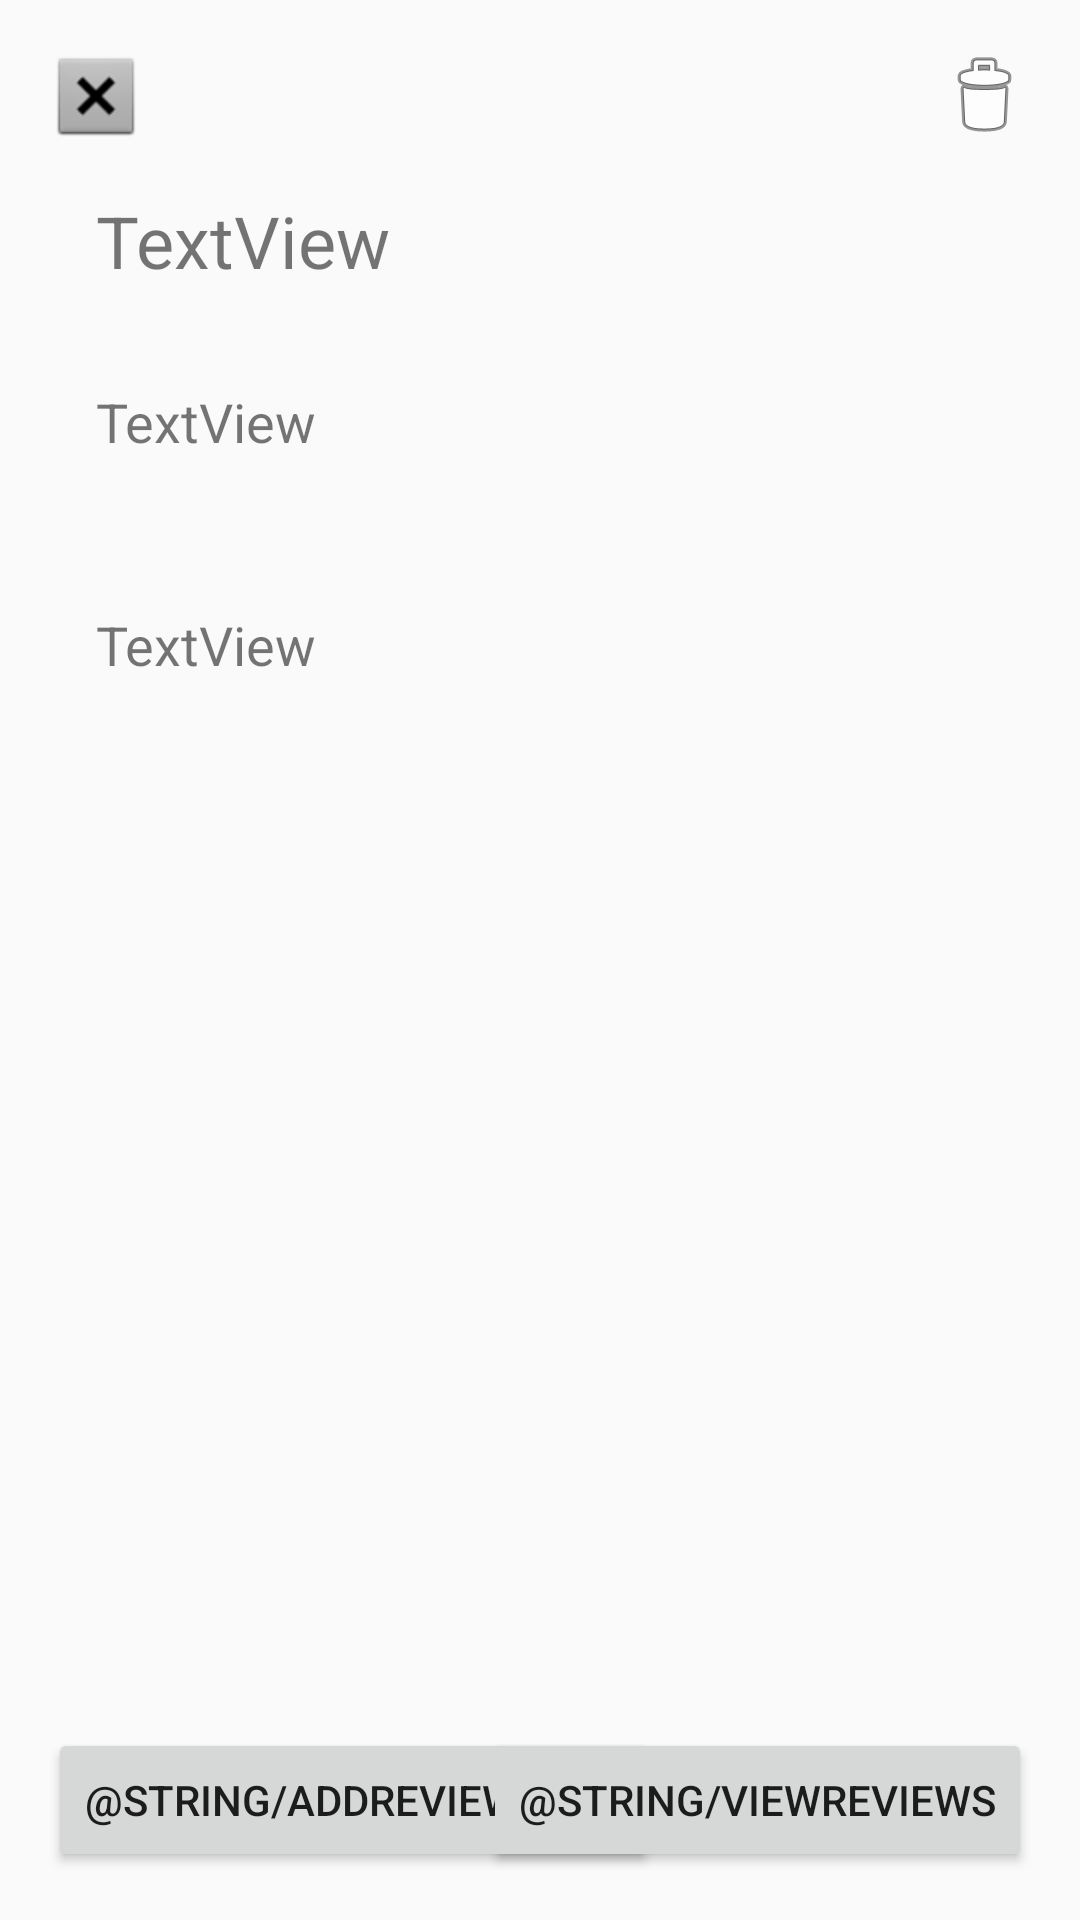

Icons on this 1080×1920 Android screen, each with its box as [x1, y1, x2, y2]:
delete: [957, 57, 1012, 132]
